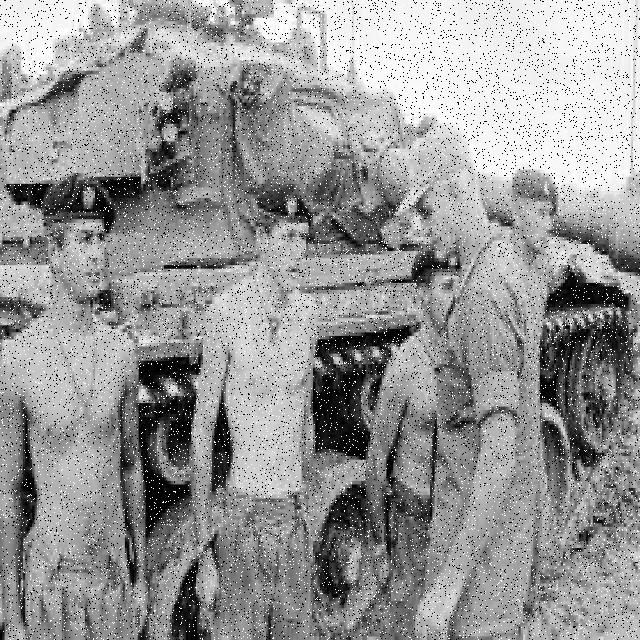MIL_MBT: (66, 6, 621, 603)
